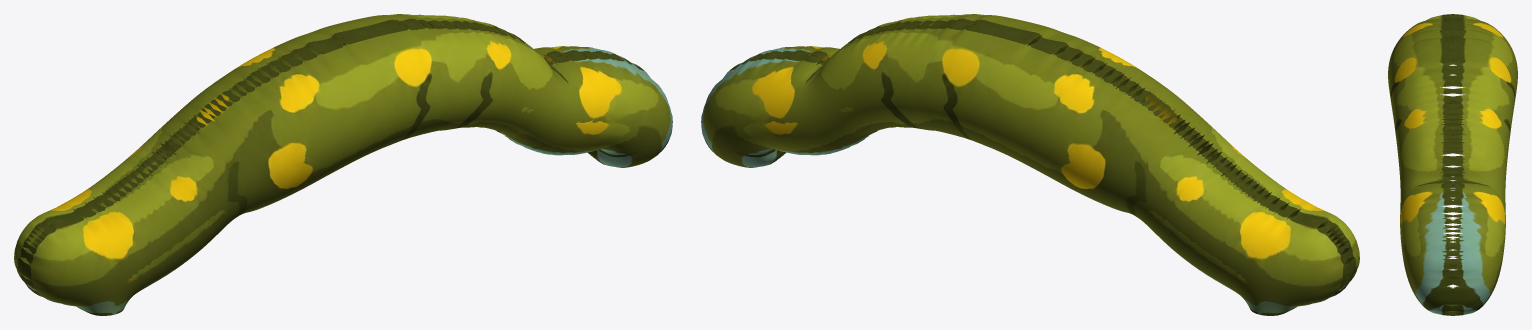
Rendered from spotted_vine.glb.
3 renders of one model, left to right at view 1: azimuth 30°, elevation 25°; view 2: azimuth 150°, elevation 25°; view 3: azimuth 270°, elevation 25°, orthographic. The views are drawn at different scales.
Parts seen in each view (by area): view 1: spotted_vine; view 2: spotted_vine; view 3: spotted_vine.
Boxes of the visible parts, x1,y1,x2,y2 form: spotted_vine: (14, 14, 672, 315); spotted_vine: (701, 14, 1359, 315); spotted_vine: (1388, 14, 1517, 315).
Size of the model in its own units: 0.989 by 0.2853 by 0.2084.
Materials: 1 (1 with a texture image).
